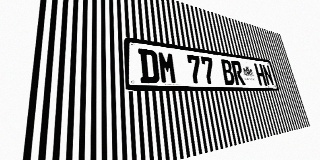7: (186, 54, 204, 85), (200, 56, 217, 85)
B: (220, 59, 236, 85)
D: (138, 48, 160, 84)
H: (254, 63, 267, 86)
M: (157, 51, 178, 84)
N: (262, 64, 275, 86)
R: (230, 60, 246, 85)
